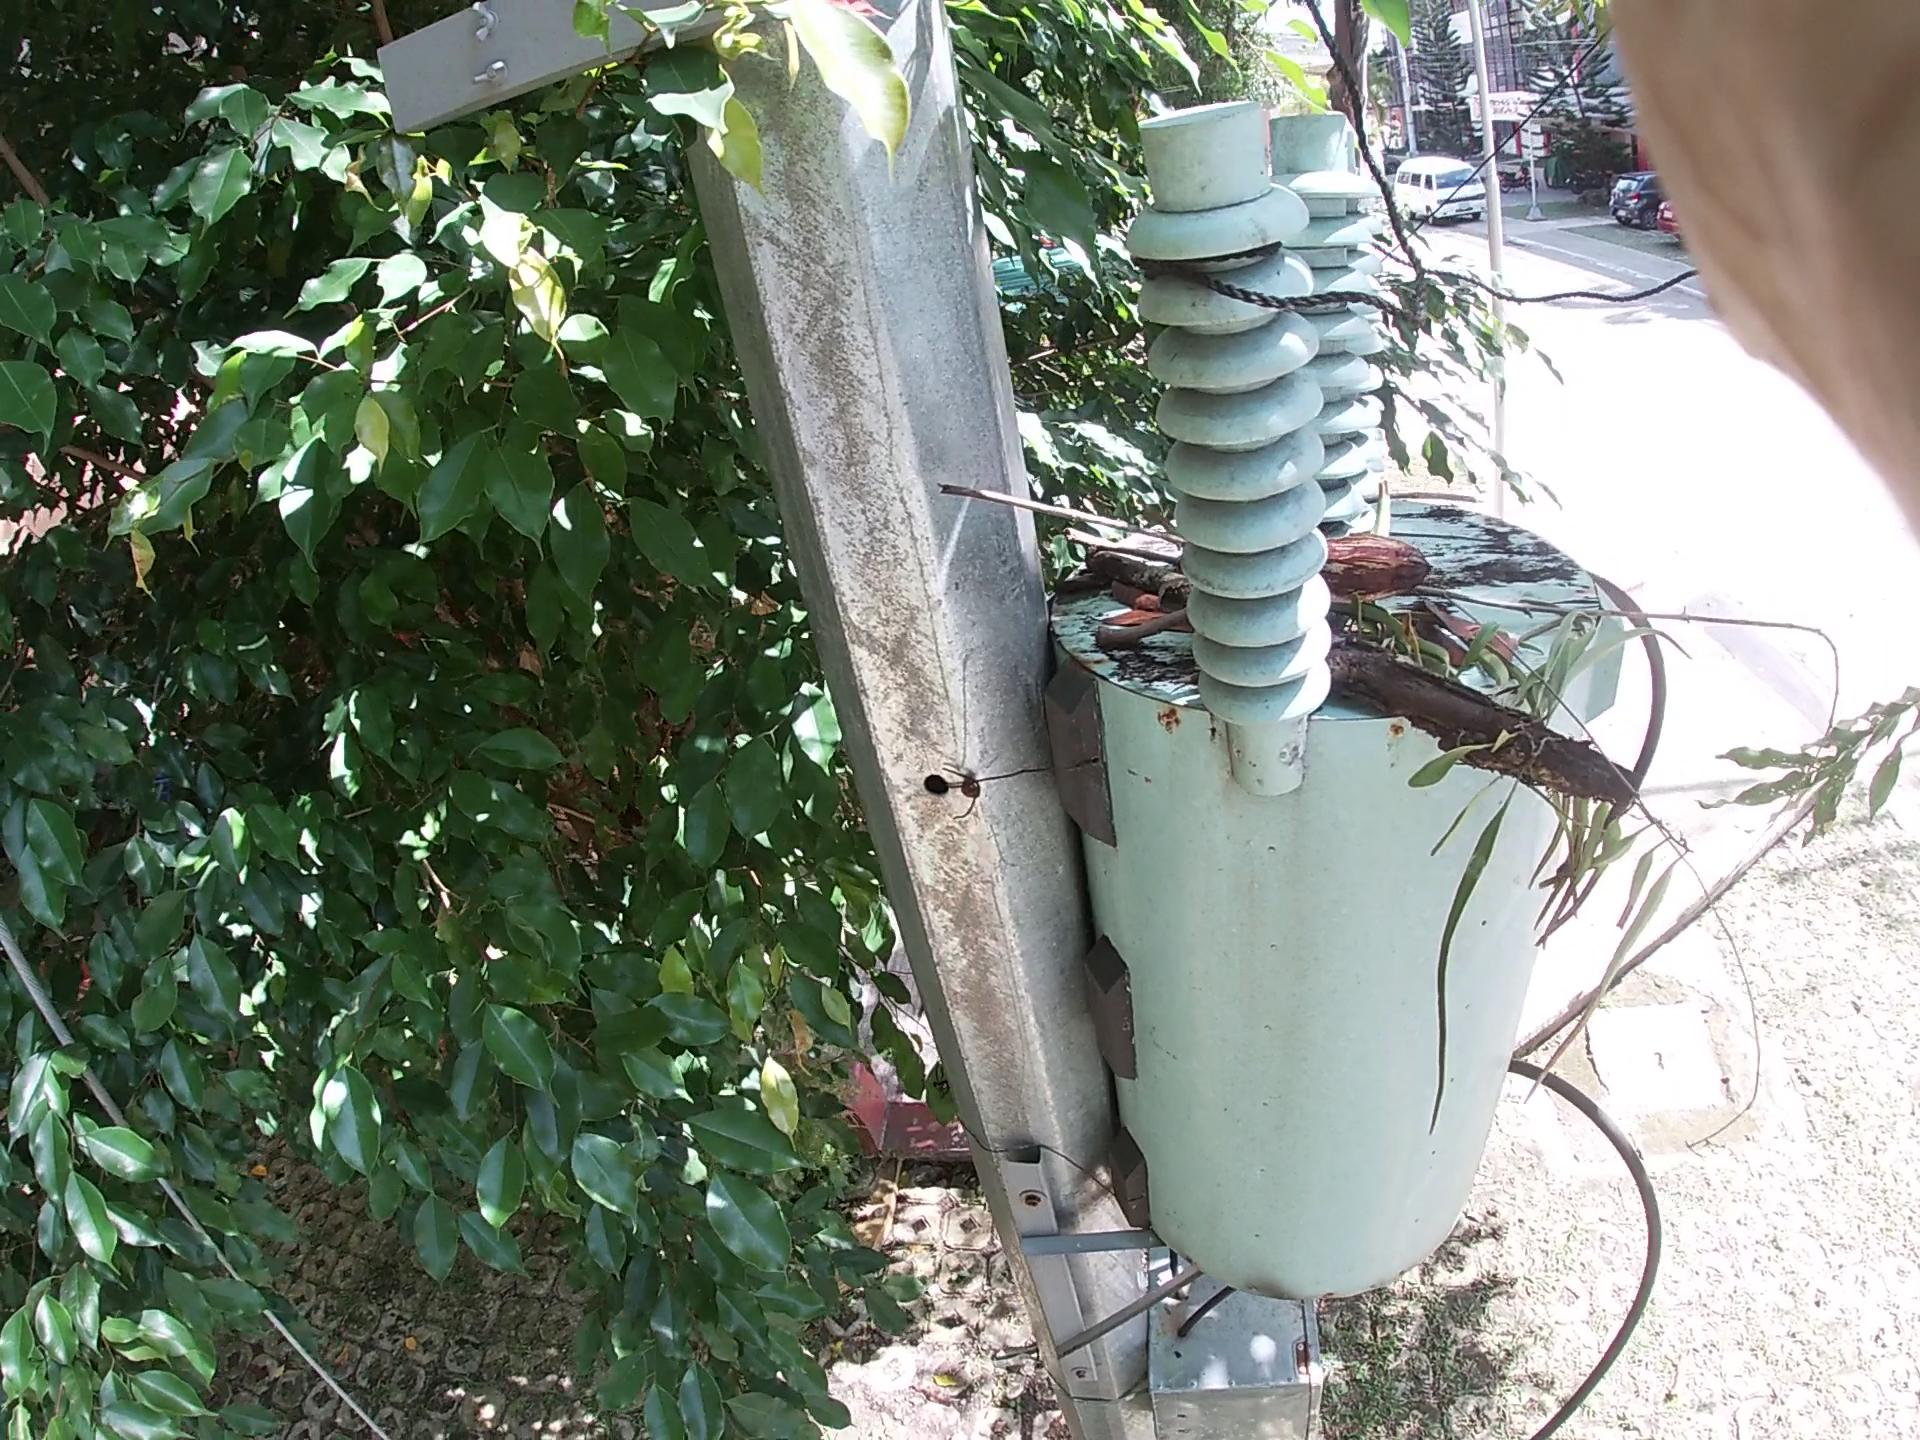branch with leaves: (1092, 551, 1668, 871)
leaf: (1076, 535, 1209, 675)
mahogany fruit: (1294, 511, 1432, 593)
tree branch: (901, 402, 1832, 632), (1105, 579, 1194, 659)
